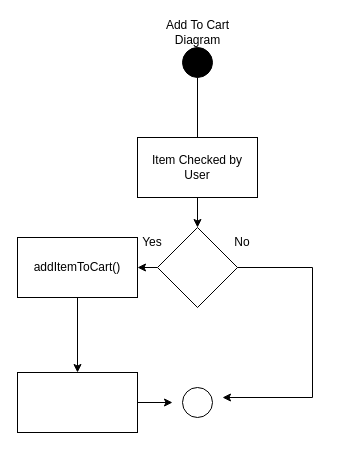
Some shapes in this 338 by 450 pixel diagram are drawn without their labels. The centre of each missing label's shape, as x and y in pixels:
"Add to Cart ?" goes at point (197, 267).
"updateCart()" goes at point (77, 402).
